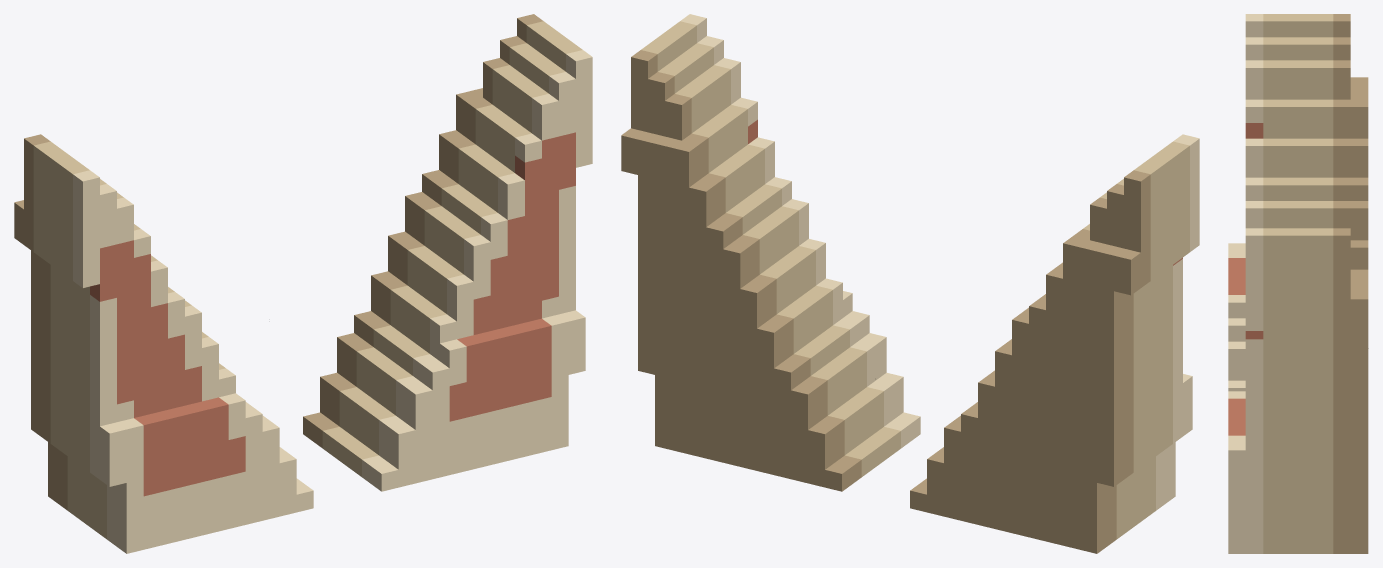
File: asobi_male_hair.glb
3 views of the same model, side by side, from view 1: azimuth 30°, elevation 25°; view 2: azimuth 150°, elevation 25°; view 3: azimuth 270°, elevation 25° (orthographic). The views are drawn at different scales.
Visible parts, largest first — view 1: Asobi_Export_Hair; view 2: Asobi_Export_Hair; view 3: Asobi_Export_Hair.
Boxes of the visible parts, box(x1,y1,x2,y2) form: Asobi_Export_Hair: box(14, 14, 592, 553); Asobi_Export_Hair: box(621, 14, 1199, 553); Asobi_Export_Hair: box(1228, 14, 1368, 553).
Bounding box in the file's own units: 0.6 × 0.42 × 0.1605.
4 materials, 4 textured.
